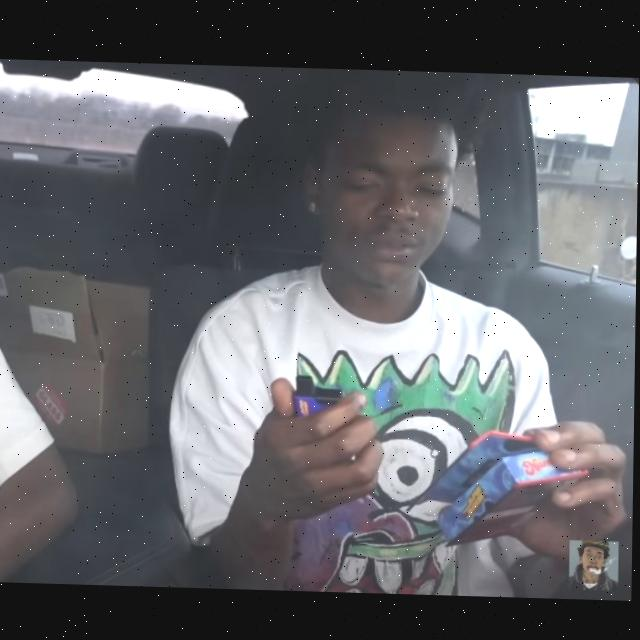vape: (291, 371, 346, 416)
